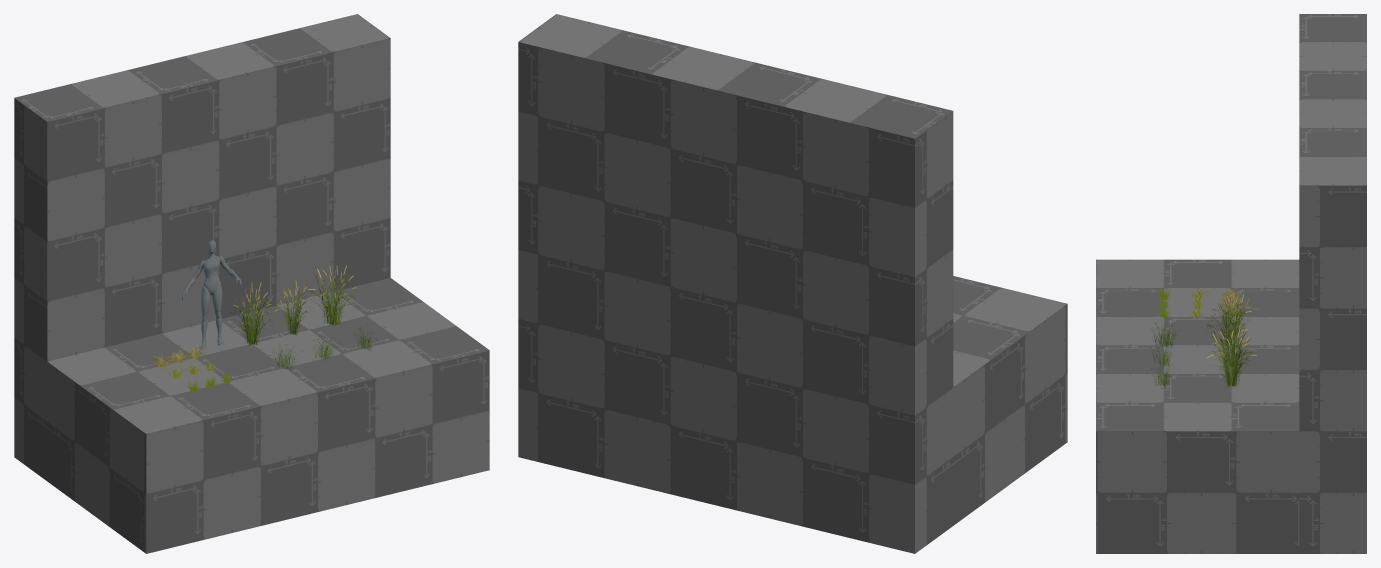
File: grass_pack_lowpoly_game-ready.glb
3 views of the same model, side by side, from view 1: azimuth 30°, elevation 25°; view 2: azimuth 150°, elevation 25°; view 3: azimuth 270°, elevation 25° (orthographic). The views are drawn at different scales.
Parts seen in each view (by area): view 1: Ground, Man ref, Grass tall high.002, Grass tall high, Grass tall high.001; view 2: Ground; view 3: Ground, Grass tall high.002, Grass tall high, Grass tall high.001.
Boxes of the visible parts, x1,y1,x2,y2 form: Ground: (14, 14, 489, 553); Man ref: (181, 240, 241, 349); Grass tall high.002: (305, 265, 356, 325); Grass tall high: (229, 282, 271, 345); Grass tall high.001: (274, 280, 314, 335); Ground: (518, 14, 1067, 553); Ground: (1096, 14, 1366, 553); Grass tall high.002: (1207, 327, 1256, 387); Grass tall high: (1207, 290, 1260, 345); Grass tall high.001: (1207, 313, 1249, 366).
Bounding box in the file's own units: 6 × 6 × 4.
Materials: 4 (4 with a texture image).
